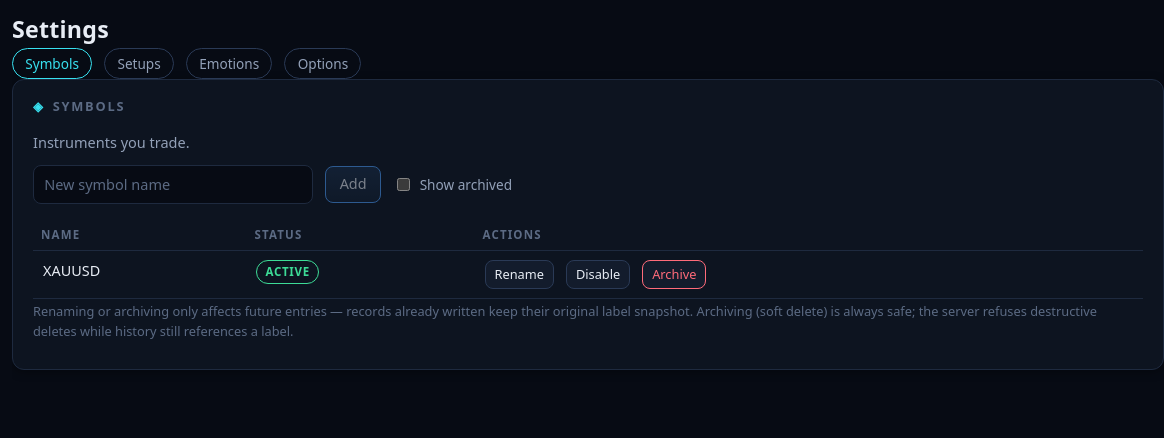
Scenario: SettingsPage › renames via the backend and states that history keeps original labels
expect the text "XAUUSD" is shown: met, box [33,251,246,298]
Click the button "Rename": (519, 275) [485,260,554,289]
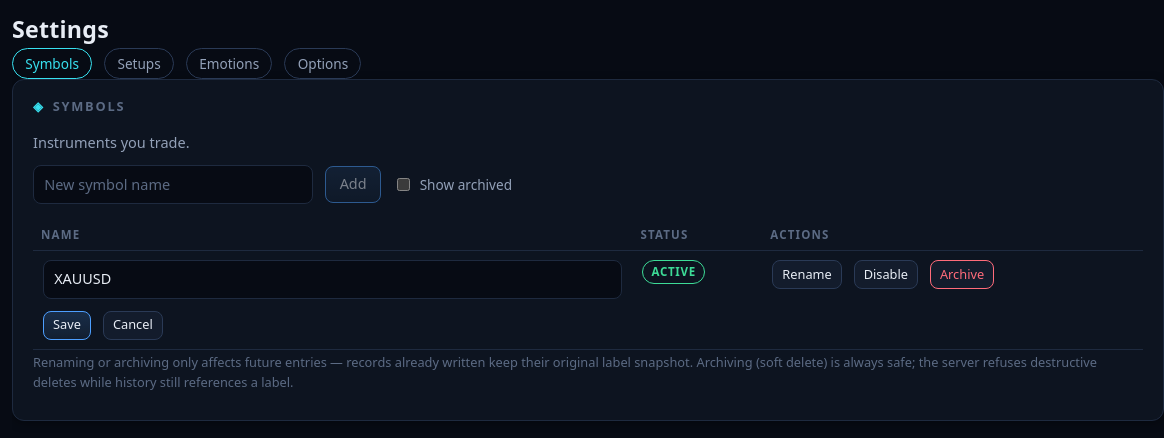
Replace the text in the field named "Rename" with "GOLD": (333, 279) [43,260,622,299]
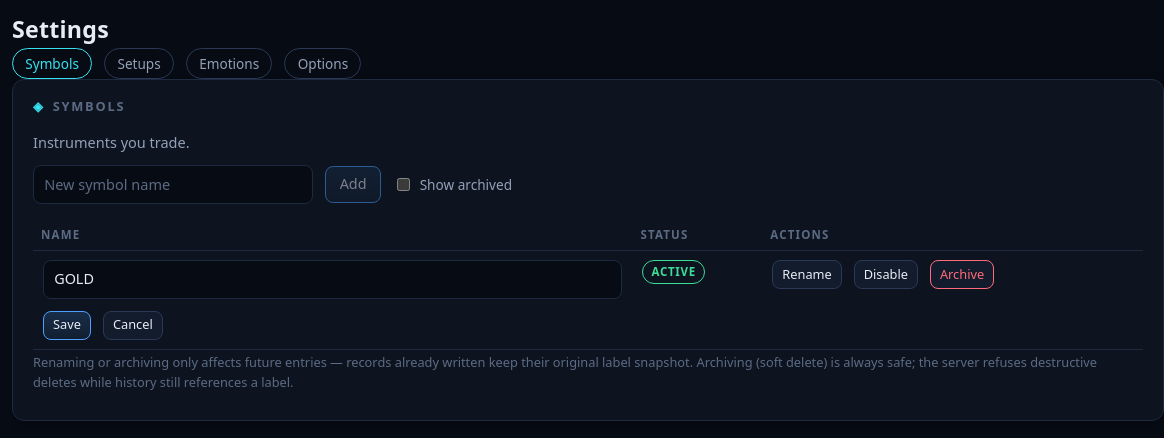
Click the button "Save": (67, 325) [43,310,91,340]
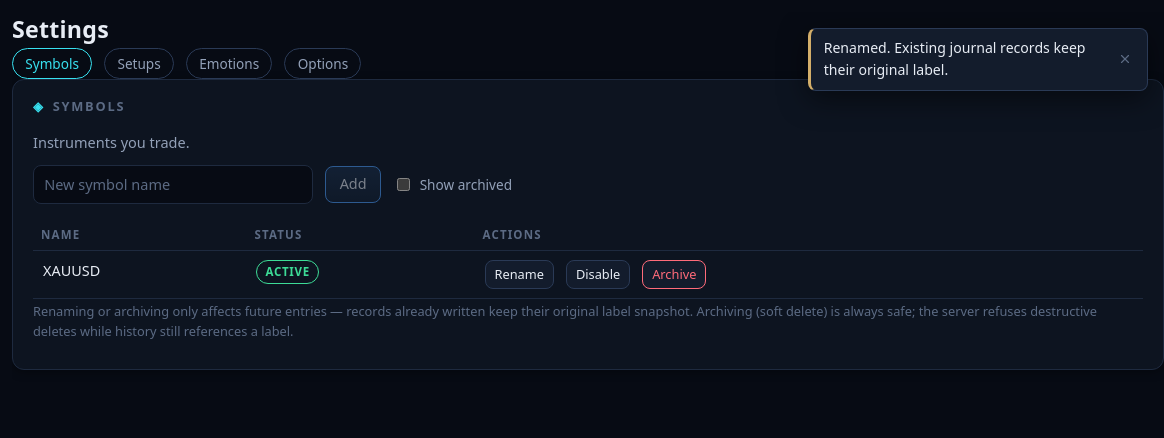
expect the text "Renamed. Existing journal records keep their original label." is shown: met, box [824,37,1104,81]
